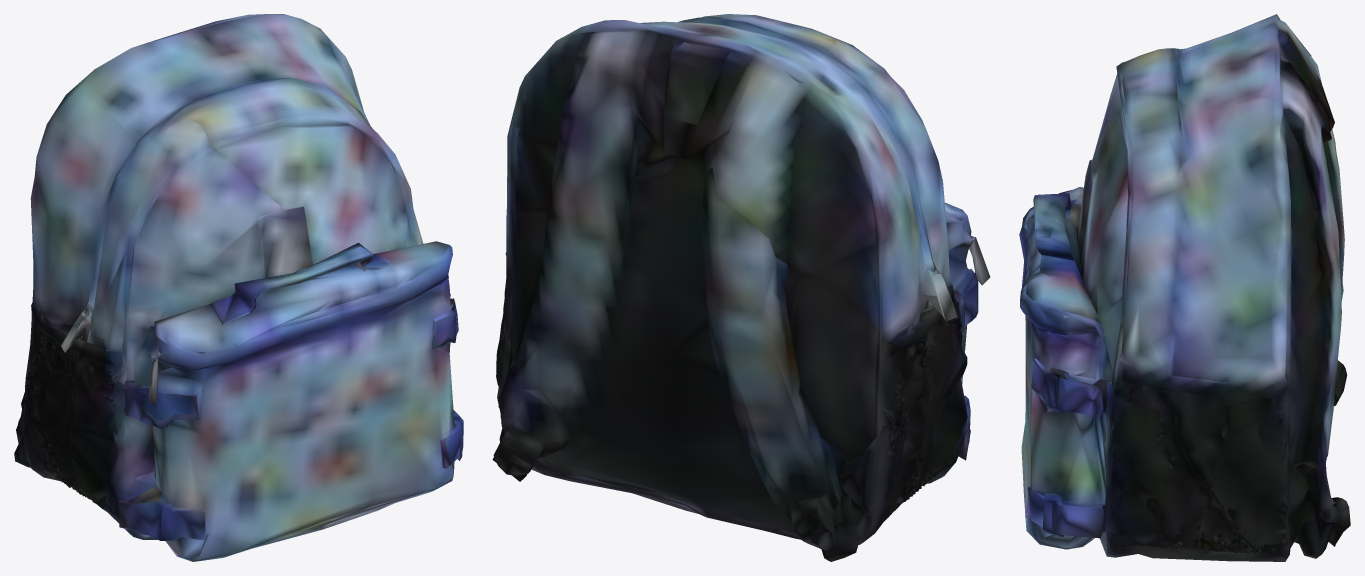
Rendered from Olive_Kids_Trains_Planes_Trucks_Bogo_Backpack-medium.glb.
3 views of the same model, side by side, from view 1: azimuth 30°, elevation 25°; view 2: azimuth 150°, elevation 25°; view 3: azimuth 270°, elevation 25° (orthographic). The views are drawn at different scales.
Visible parts, largest first — view 1: Olive_Kids_Trains_Planes_Trucks_Bogo_Backpack; view 2: Olive_Kids_Trains_Planes_Trucks_Bogo_Backpack; view 3: Olive_Kids_Trains_Planes_Trucks_Bogo_Backpack.
Boxes of the visible parts, <box> form: Olive_Kids_Trains_Planes_Trucks_Bogo_Backpack: <box>14,14,463,561</box>; Olive_Kids_Trains_Planes_Trucks_Bogo_Backpack: <box>492,14,990,561</box>; Olive_Kids_Trains_Planes_Trucks_Bogo_Backpack: <box>1019,14,1350,561</box>.
Size of the model in its own units: 0.3425 by 0.3755 by 0.2527.
Materials: 1 (1 with a texture image).
